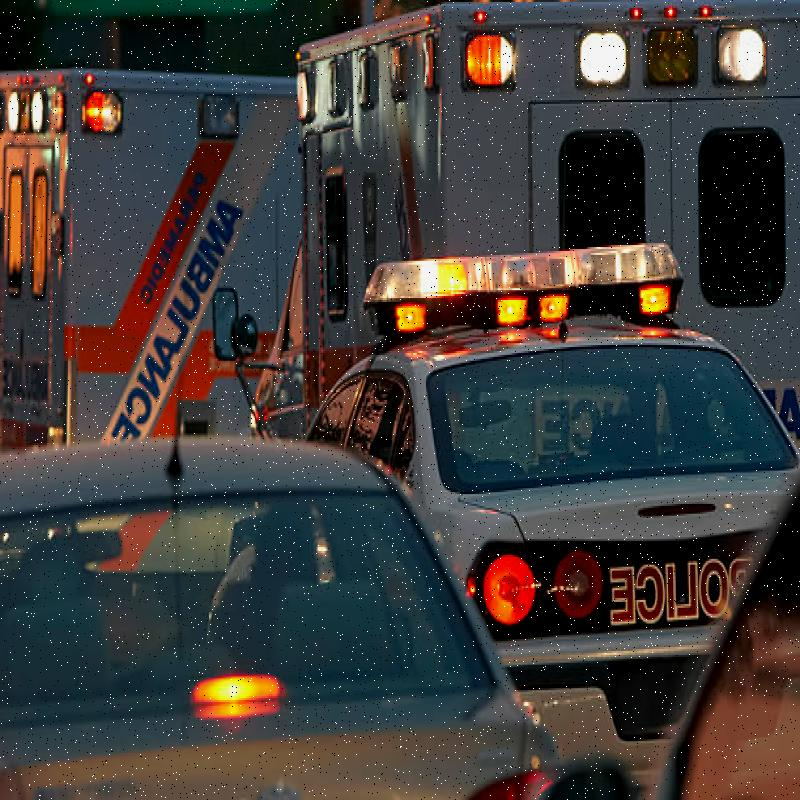AmbulanceSiren: (320, 230, 698, 336)
